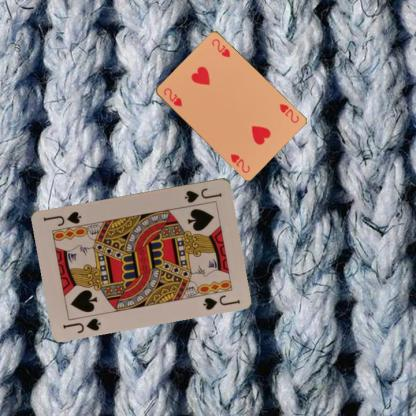2h: (276, 101, 300, 124), (161, 85, 183, 107)
Js: (182, 185, 224, 204), (60, 315, 102, 334)
